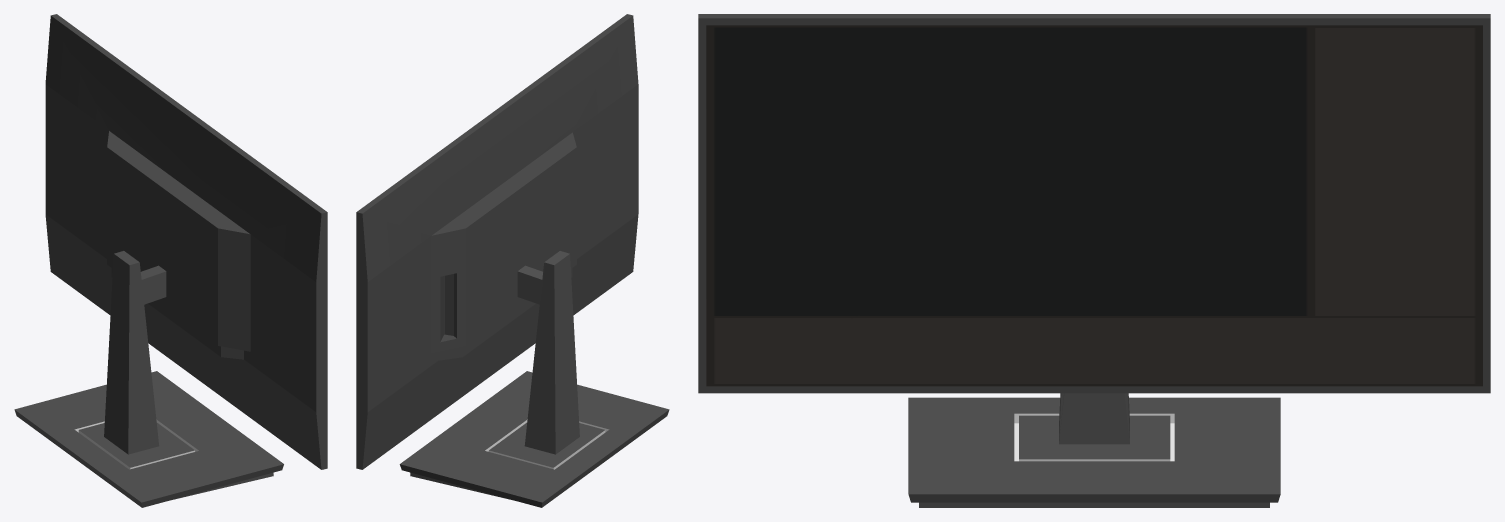
The model's file is Monitor.fbx.
The picture shows the model from 3 angles, left to right: view 1: azimuth 30°, elevation 25°; view 2: azimuth 150°, elevation 25°; view 3: azimuth 270°, elevation 25°; orthographic projection. The views are drawn at different scales.
Visible parts, largest first — view 1: group_0, SketchUp.001, SketchUp.003; view 2: group_0, SketchUp.001, SketchUp.003, group_0.001; view 3: Plane, SketchUp.001, group_0, SketchUp.003.
Part boxes in pixels (x1,y1,x2,y2): group_0: (45, 14, 327, 469); SketchUp.001: (14, 371, 283, 507); SketchUp.003: (104, 251, 166, 454); group_0: (356, 14, 638, 469); SketchUp.001: (399, 371, 669, 507); SketchUp.003: (517, 251, 579, 454); group_0.001: (440, 273, 456, 342); Plane: (706, 25, 1482, 386); SketchUp.001: (908, 397, 1280, 507); group_0: (698, 14, 1490, 393); SketchUp.003: (1059, 393, 1129, 444).
Size of the model in its own units: 253 by 549 by 831.
